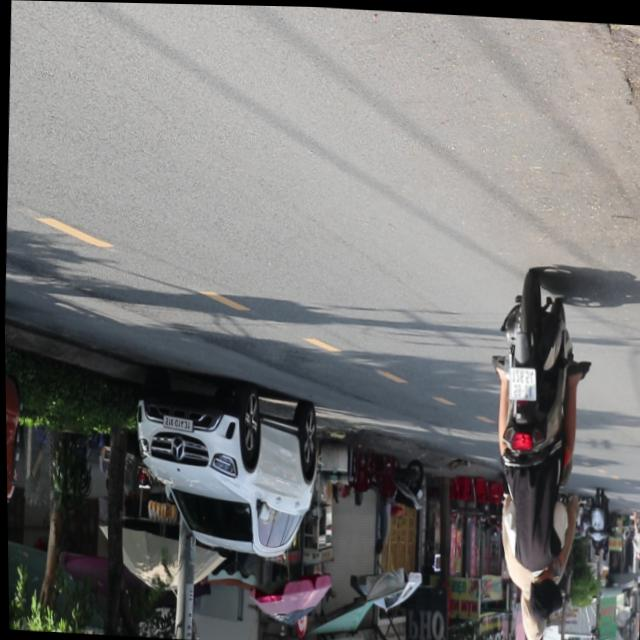helmet: (516, 593, 546, 640)
licenseplate: (478, 268, 594, 640)
motorcyclist: (525, 566, 559, 619)
nohelmet: (507, 365, 535, 399)
